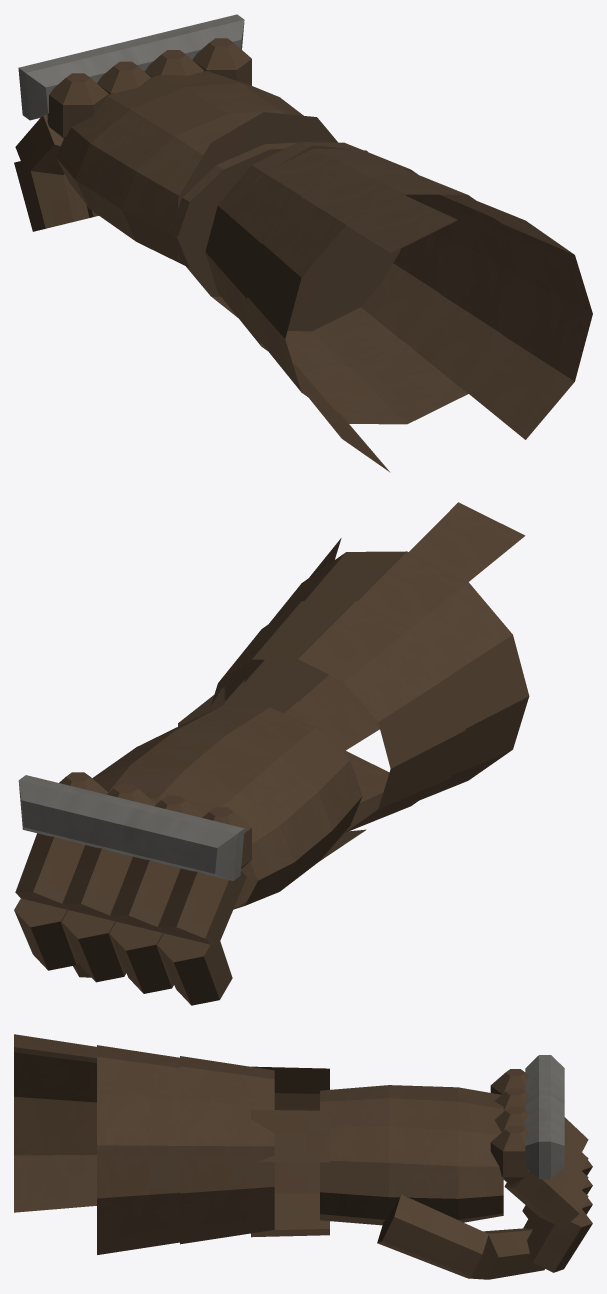
The model's file is wpn_gauntlet_common.glb.
3 renders of one model, top to bottom at view 1: azimuth 30°, elevation 25°; view 2: azimuth 150°, elevation 25°; view 3: azimuth 270°, elevation 25°, orthographic. The views are drawn at different scales.
Visible parts, largest first — view 1: wpn_gauntlet_common; view 2: wpn_gauntlet_common; view 3: wpn_gauntlet_common.
Boxes of the visible parts, bbox=[...] form: wpn_gauntlet_common: bbox=[14, 14, 592, 472]; wpn_gauntlet_common: bbox=[14, 502, 529, 1005]; wpn_gauntlet_common: bbox=[14, 1034, 592, 1279].
Bounding box in the file's own units: 0.128 × 0.1157 × 0.2933.
2 materials, 2 textured.
